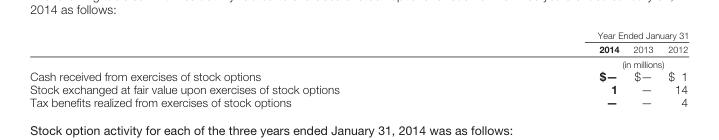table: (29, 28, 688, 108)
table column: (29, 28, 467, 108), (467, 28, 625, 108), (625, 28, 659, 108), (659, 28, 688, 108)
table column header: (29, 28, 688, 69)
table row: (29, 41, 688, 56), (29, 28, 688, 41), (29, 56, 688, 69), (29, 69, 688, 82), (29, 82, 688, 95), (29, 95, 688, 108)
table spanning cell: (467, 28, 688, 41), (467, 56, 688, 69)
